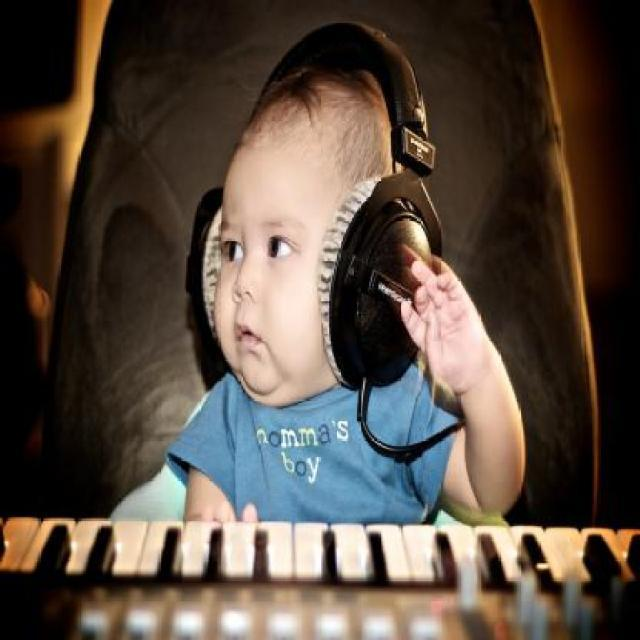earphone: (140, 19, 515, 369)
